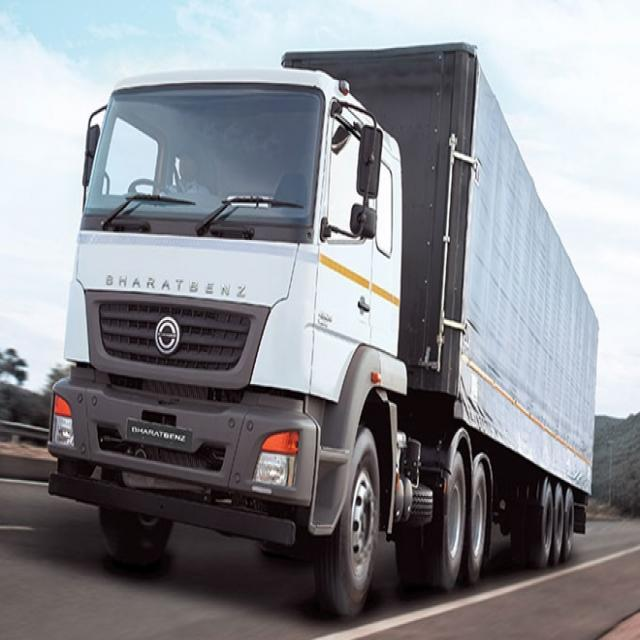Truck: (51, 48, 600, 622)
